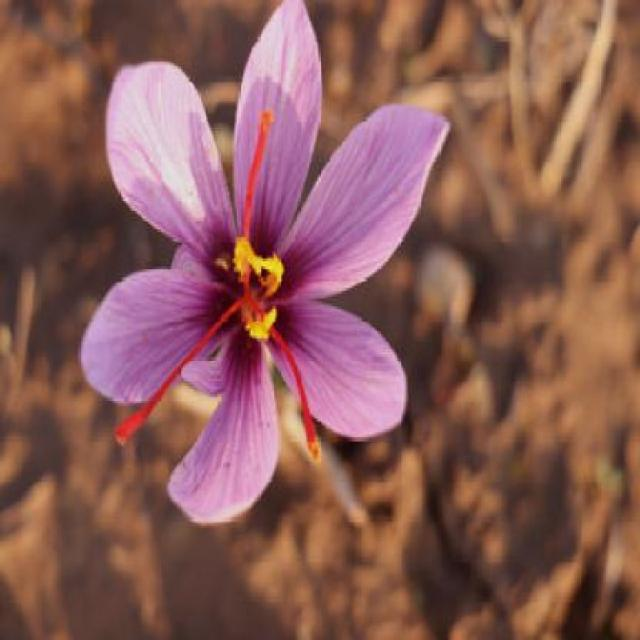Flower: (82, 2, 449, 526)
stigma: (111, 294, 247, 448), (269, 324, 327, 466), (238, 105, 274, 241)
